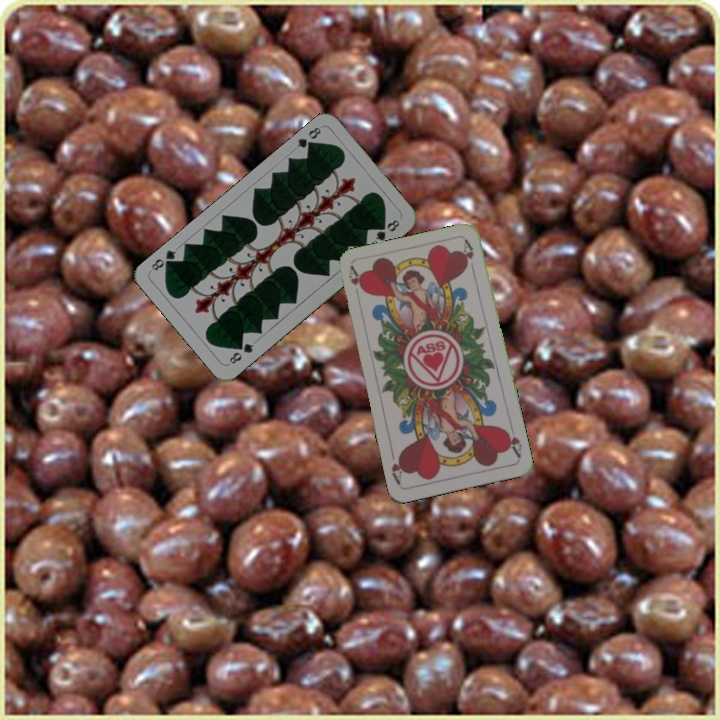G8: (293, 123, 324, 153), (224, 339, 256, 367)
HA: (501, 420, 524, 461), (344, 263, 366, 303)
